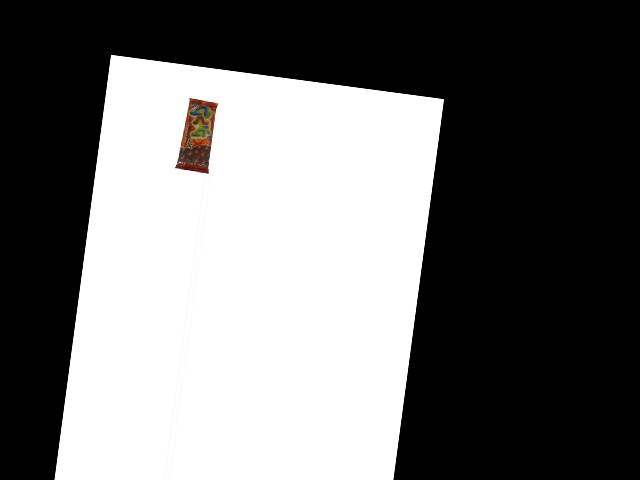chocolate: (176, 97, 218, 173)
